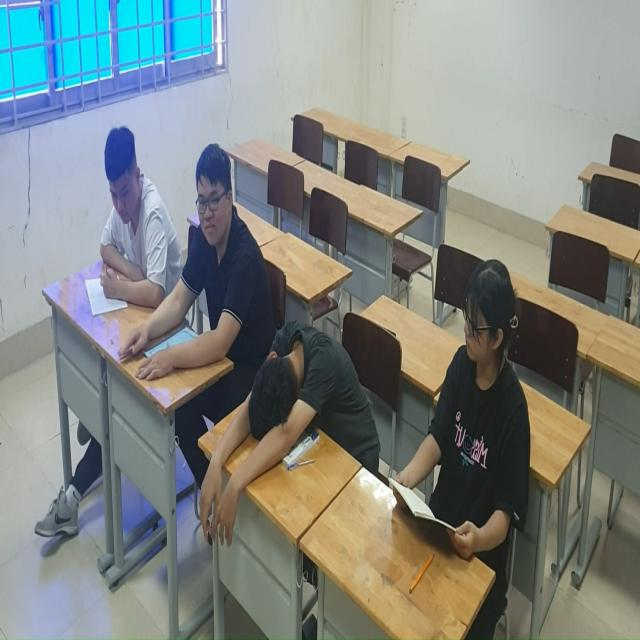read: (389, 235, 540, 573), (129, 135, 267, 383), (78, 122, 172, 326)
sleep: (200, 310, 378, 543)
